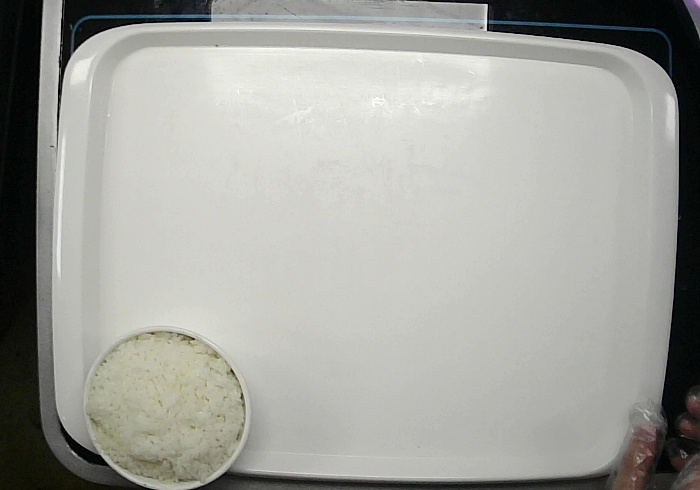HZYJPL-Fan_Wan: (83, 328, 252, 490)
